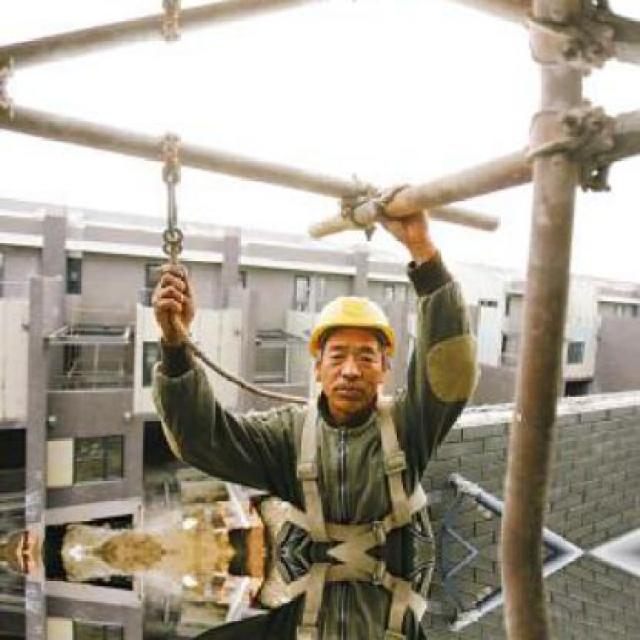helmet: (294, 278, 401, 414)
